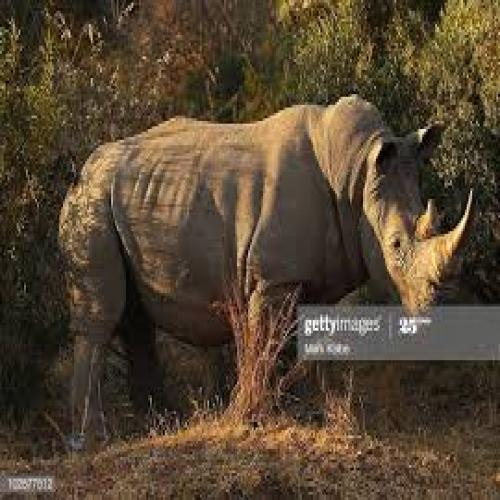rhino-endangered: (60, 92, 475, 419)
